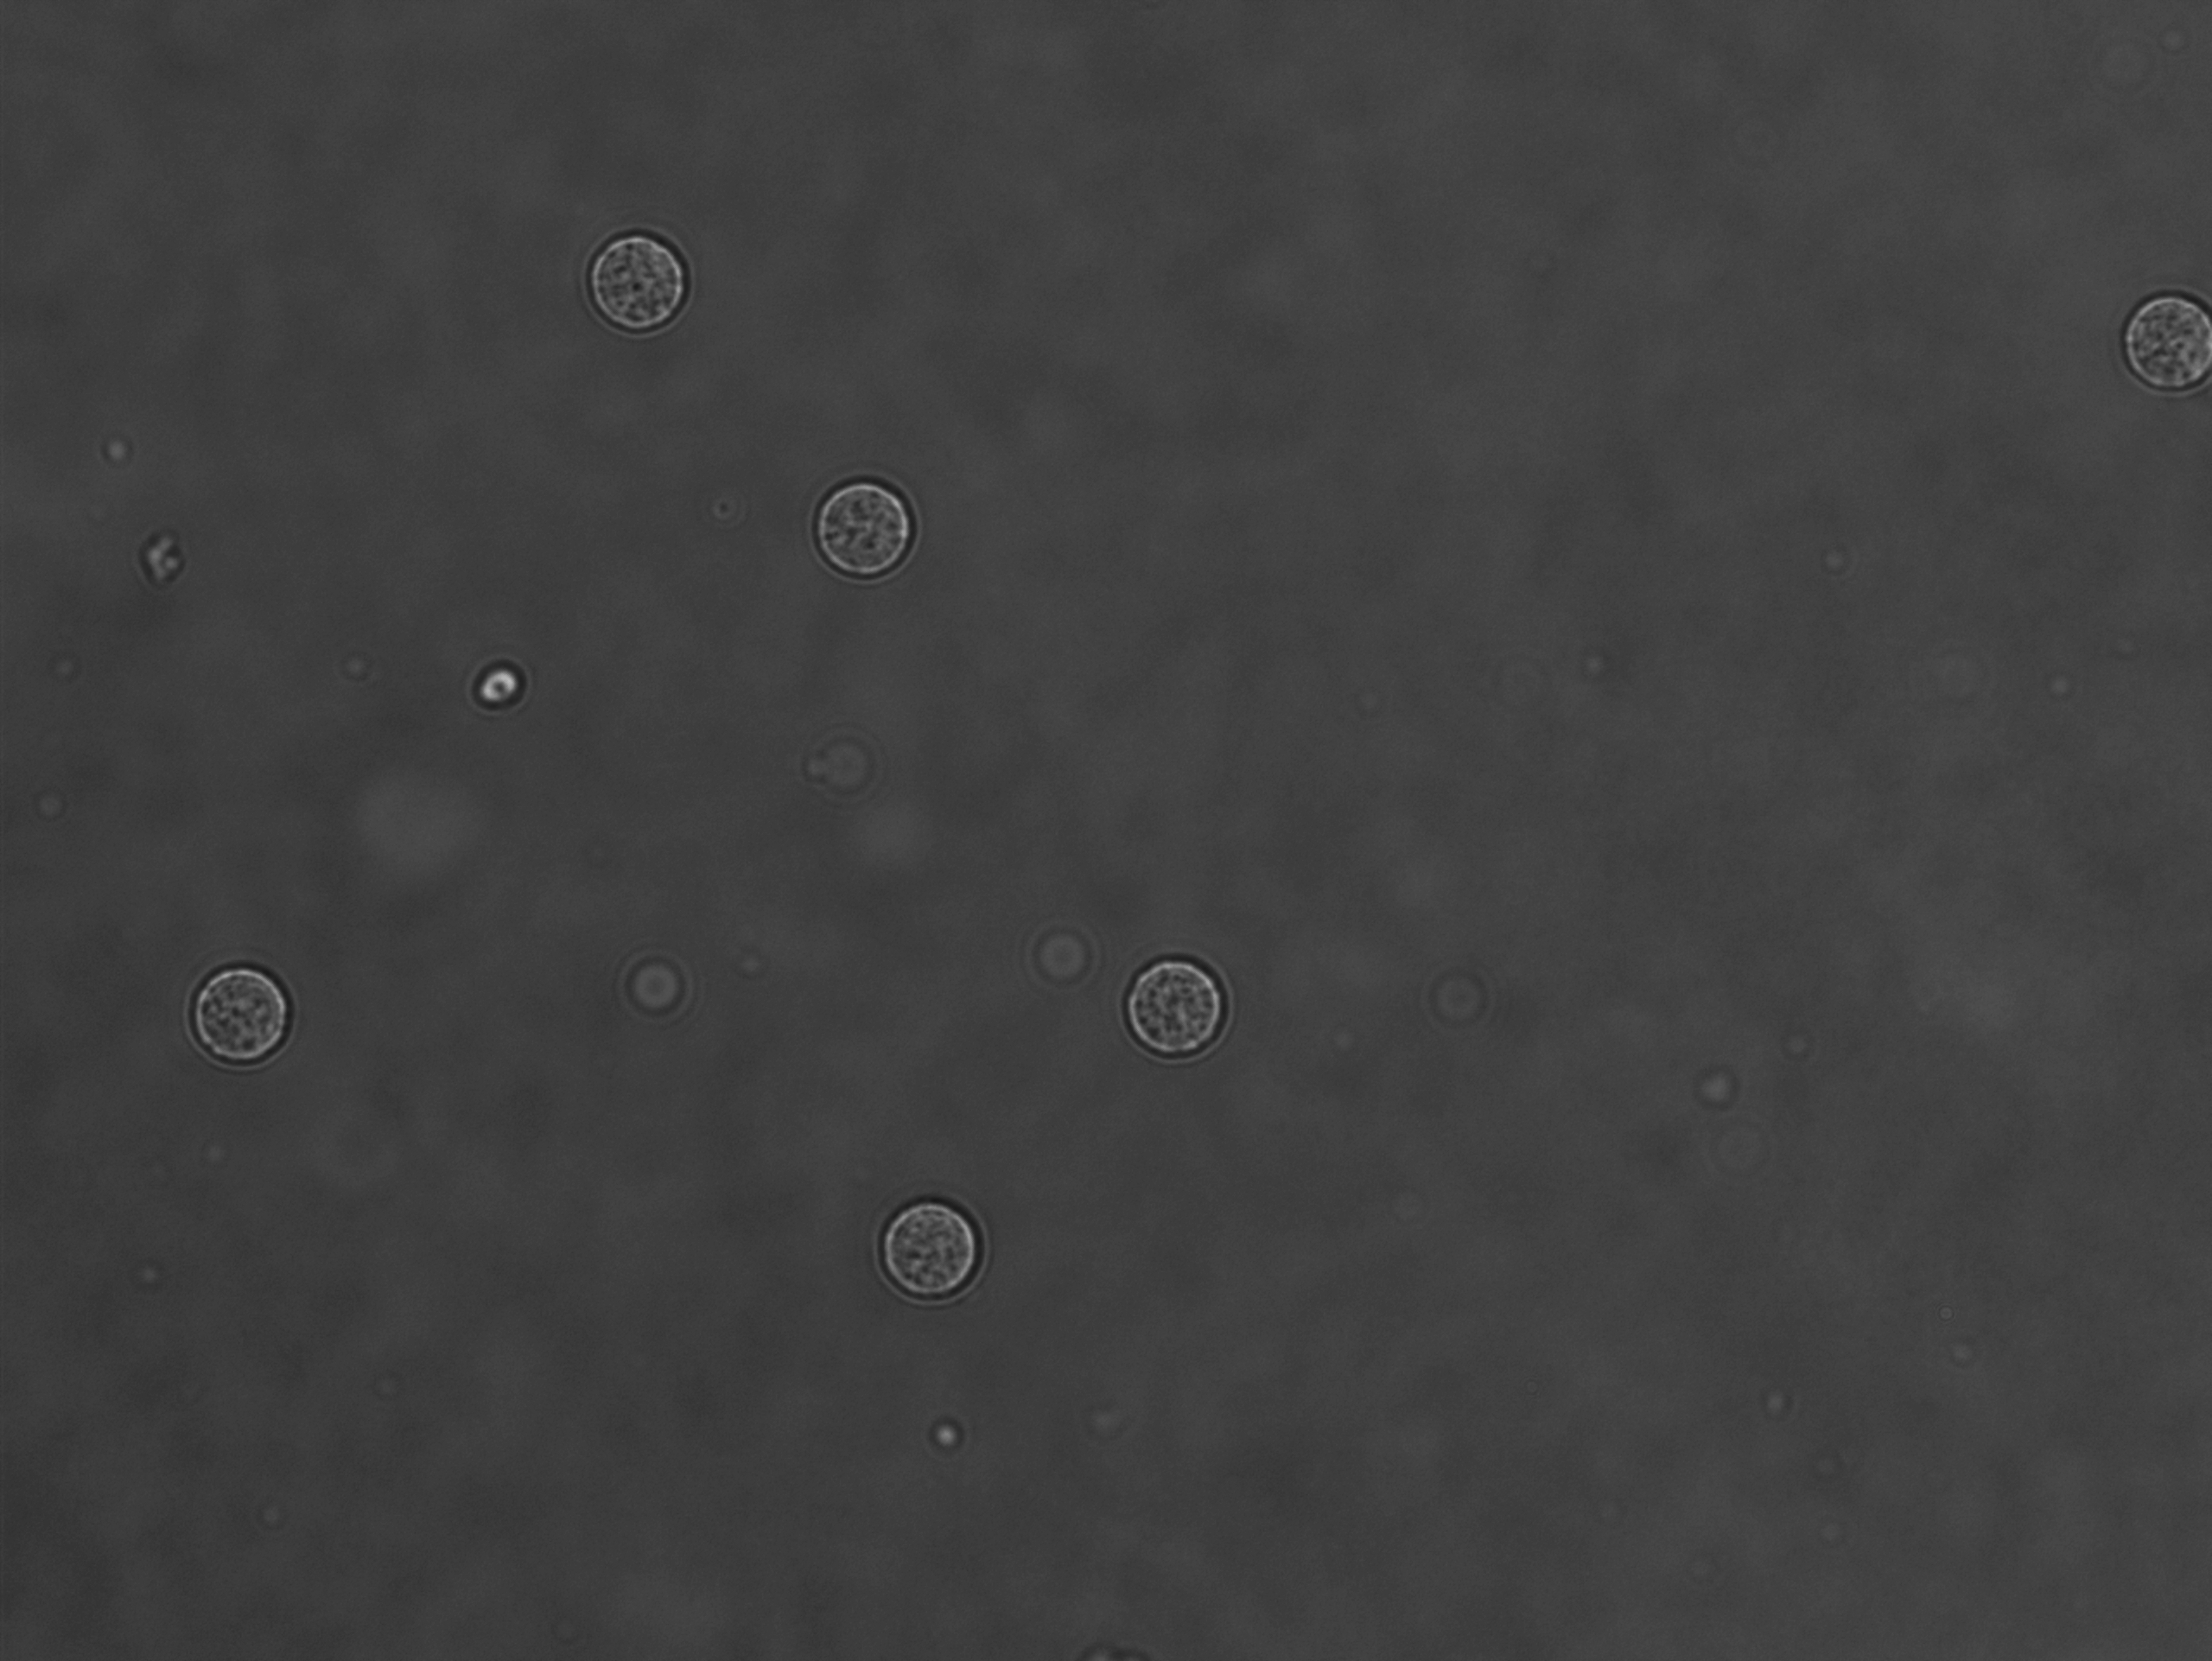depth:0: (1101, 930, 1251, 1080), (862, 1165, 1015, 1312), (572, 216, 715, 349), (173, 951, 319, 1080), (799, 457, 944, 586), (2109, 260, 2212, 434)
